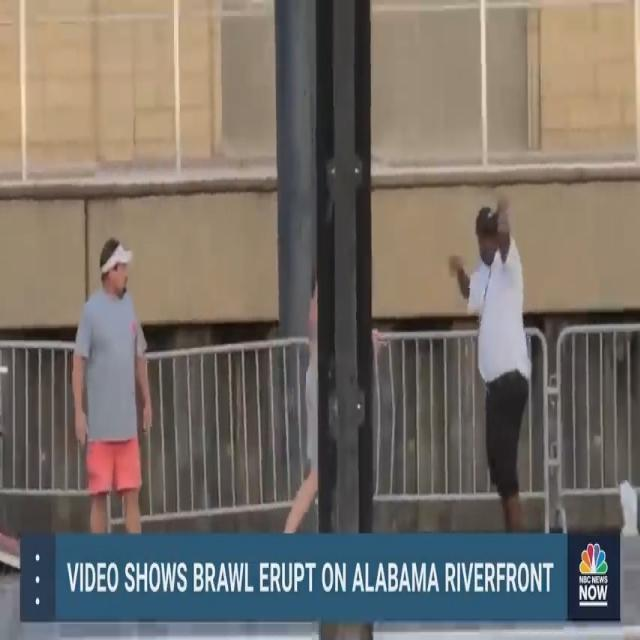non-fight: (446, 194, 536, 536), (68, 232, 154, 536)
